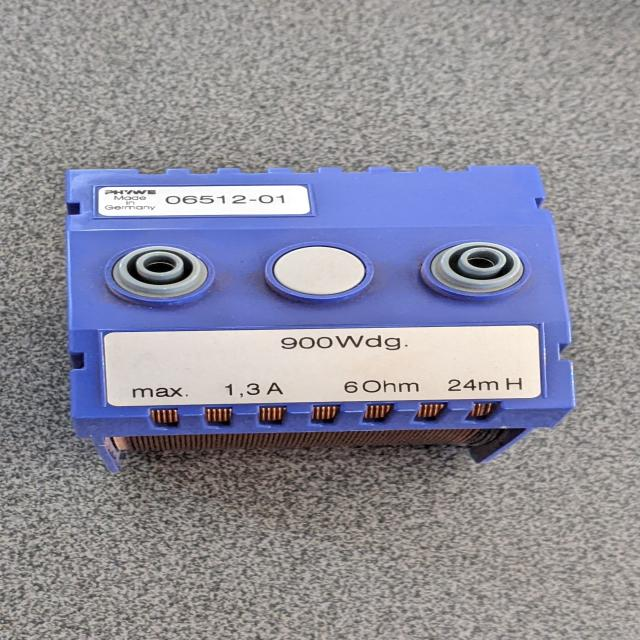Solenoid: (45, 159, 598, 475)
